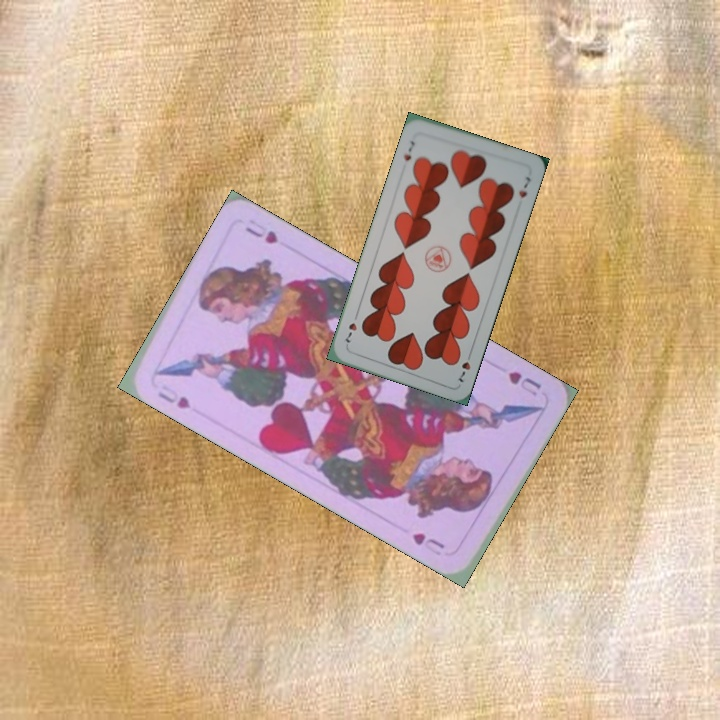H7: (454, 347, 474, 385), (400, 137, 417, 164)
HU: (153, 376, 193, 412), (504, 367, 544, 399)
